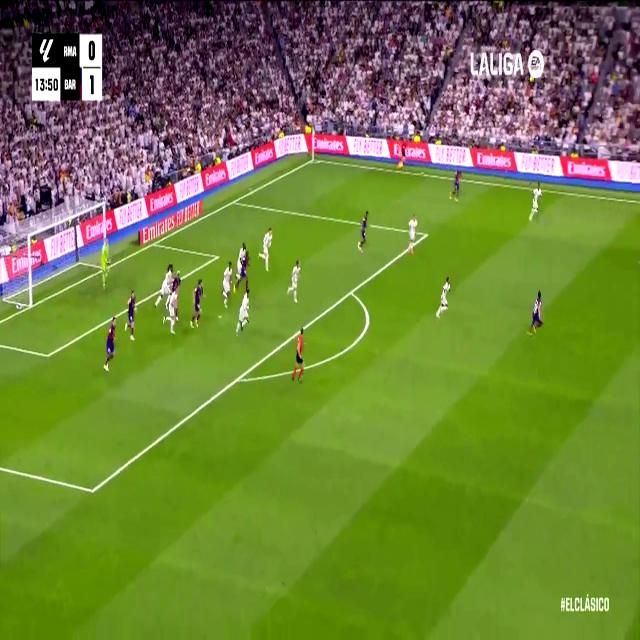bigarea_bottom_inner: (87, 475, 99, 505)
bigarea_top_inner: (422, 225, 428, 242)
bigarea_top_outter: (230, 193, 238, 208)
bottom_arc_area_intersection: (232, 365, 244, 391)
corner: (308, 153, 318, 165)
smallarea_bottom_inner: (44, 344, 52, 365)
smallarea_top_inner: (212, 247, 222, 266)
top_arc_area_intersection: (346, 281, 356, 300)
